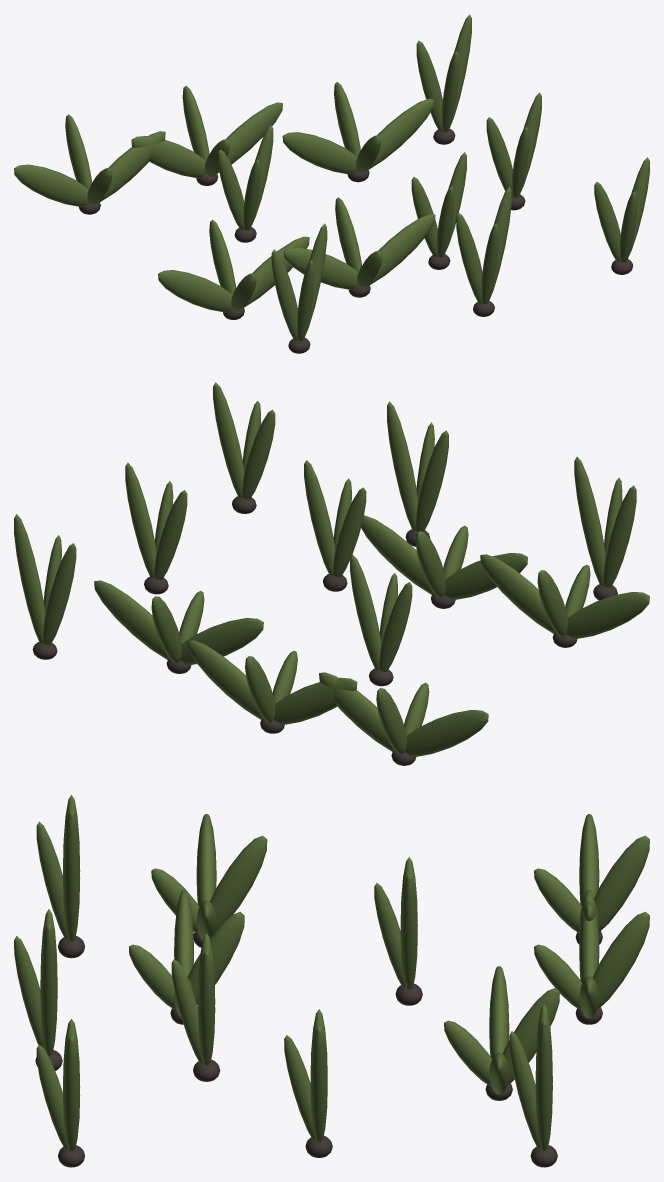
The model's file is CMU3DRMCGrassa2.glb.
3 renders of one model, top to bottom at view 1: azimuth 30°, elevation 25°; view 2: azimuth 150°, elevation 25°; view 3: azimuth 270°, elevation 25°, orthographic. The views are drawn at different scales.
Parts seen in each view (by area): view 1: tuft 7 continuous leaf 0, tuft 0 continuous leaf 0, tuft 8 continuous leaf 0, tuft 6 continuous leaf 0, tuft 9 continuous leaf 1, tuft 7 continuous leaf 1, tuft 6 continuous leaf 1, tuft 9 continuous leaf 0, tuft 0 continuous leaf 1, tuft 4 continuous leaf 0, tuft 5 continuous leaf 0, tuft 1 continuous leaf 0 (+28 smaller); view 2: tuft 0 continuous leaf 0, tuft 8 continuous leaf 0, tuft 8 continuous leaf 1, tuft 6 continuous leaf 1, tuft 7 continuous leaf 1, tuft 6 continuous leaf 0, tuft 9 continuous leaf 1, tuft 1 continuous leaf 1, tuft 4 continuous leaf 1, tuft 5 continuous leaf 1, tuft 7 continuous leaf 0, tuft 0 continuous leaf 1 (+29 smaller); view 3: tuft 6 continuous leaf 2, tuft 0 continuous leaf 2, tuft 8 continuous leaf 2, tuft 5 continuous leaf 1, tuft 1 continuous leaf 1, tuft 4 continuous leaf 1, tuft 9 continuous leaf 2, tuft 2 continuous leaf 1, tuft 10 continuous leaf 1, tuft 3 continuous leaf 1, tuft 11 continuous leaf 1, tuft 4 continuous leaf 2 (+20 smaller).
Boxes of the visible parts, left/top/right/bottom form: tuft 7 continuous leaf 0: left=282, top=132, right=357, bottom=174; tuft 0 continuous leaf 0: left=14, top=164, right=88, bottom=206; tuft 8 continuous leaf 0: left=158, top=270, right=232, bottom=312; tuft 6 continuous leaf 0: left=131, top=136, right=205, bottom=178; tuft 9 continuous leaf 1: left=369, top=214, right=435, bottom=284; tuft 7 continuous leaf 1: left=368, top=98, right=434, bottom=169; tuft 6 continuous leaf 1: left=217, top=102, right=282, bottom=173; tuft 9 continuous leaf 0: left=284, top=247, right=358, bottom=289; tuft 0 continuous leaf 1: left=99, top=131, right=165, bottom=201; tuft 4 continuous leaf 0: left=271, top=249, right=298, bottom=340; tuft 5 continuous leaf 0: left=456, top=212, right=482, bottom=303; tuft 1 continuous leaf 0: left=416, top=40, right=442, bottom=131; tuft 0 continuous leaf 0: left=405, top=710, right=488, bottom=757; tuft 8 continuous leaf 0: left=566, top=592, right=649, bottom=639; tuft 8 continuous leaf 1: left=480, top=554, right=555, bottom=633; tuft 6 continuous leaf 1: left=187, top=640, right=263, bottom=719; tuft 7 continuous leaf 1: left=94, top=580, right=169, bottom=659; tuft 6 continuous leaf 0: left=274, top=677, right=357, bottom=724; tuft 9 continuous leaf 1: left=361, top=515, right=433, bottom=594; tuft 1 continuous leaf 1: left=14, top=514, right=45, bottom=643; tuft 4 continuous leaf 1: left=574, top=456, right=605, bottom=585; tuft 5 continuous leaf 1: left=387, top=401, right=418, bottom=530; tuft 7 continuous leaf 0: left=180, top=618, right=263, bottom=665; tuft 0 continuous leaf 1: left=319, top=672, right=394, bottom=751; tuft 6 continuous leaf 2: left=592, top=911, right=649, bottom=1007; tuft 0 continuous leaf 2: left=594, top=835, right=649, bottom=931; tuft 8 continuous leaf 2: left=210, top=835, right=267, bottom=931; tuft 5 continuous leaf 1: left=40, top=924, right=57, bottom=1055; tuft 1 continuous leaf 1: left=535, top=1019, right=552, bottom=1150; tuft 4 continuous leaf 1: left=63, top=809, right=80, bottom=941; tuft 9 continuous leaf 2: left=187, top=912, right=244, bottom=1004; tuft 2 continuous leaf 1: left=400, top=874, right=417, bottom=989; tuft 10 continuous leaf 1: left=310, top=1026, right=327, bottom=1141; tuft 3 continuous leaf 1: left=198, top=950, right=215, bottom=1065; tuft 11 continuous leaf 1: left=63, top=1035, right=80, bottom=1150; tuft 4 continuous leaf 2: left=36, top=822, right=67, bottom=939.
Bounding box in the file's own units: 0.9389 × 0.2506 × 0.8829.
